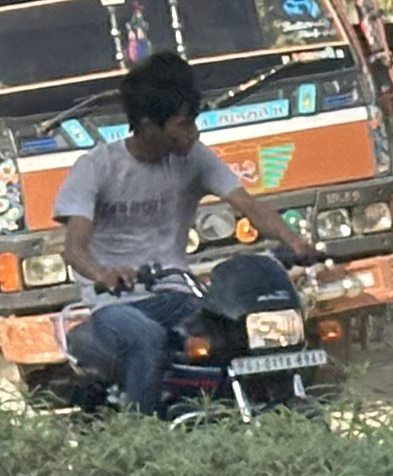BikeWithRider: (41, 49, 353, 455)
NoHelmet: (119, 49, 209, 166)
